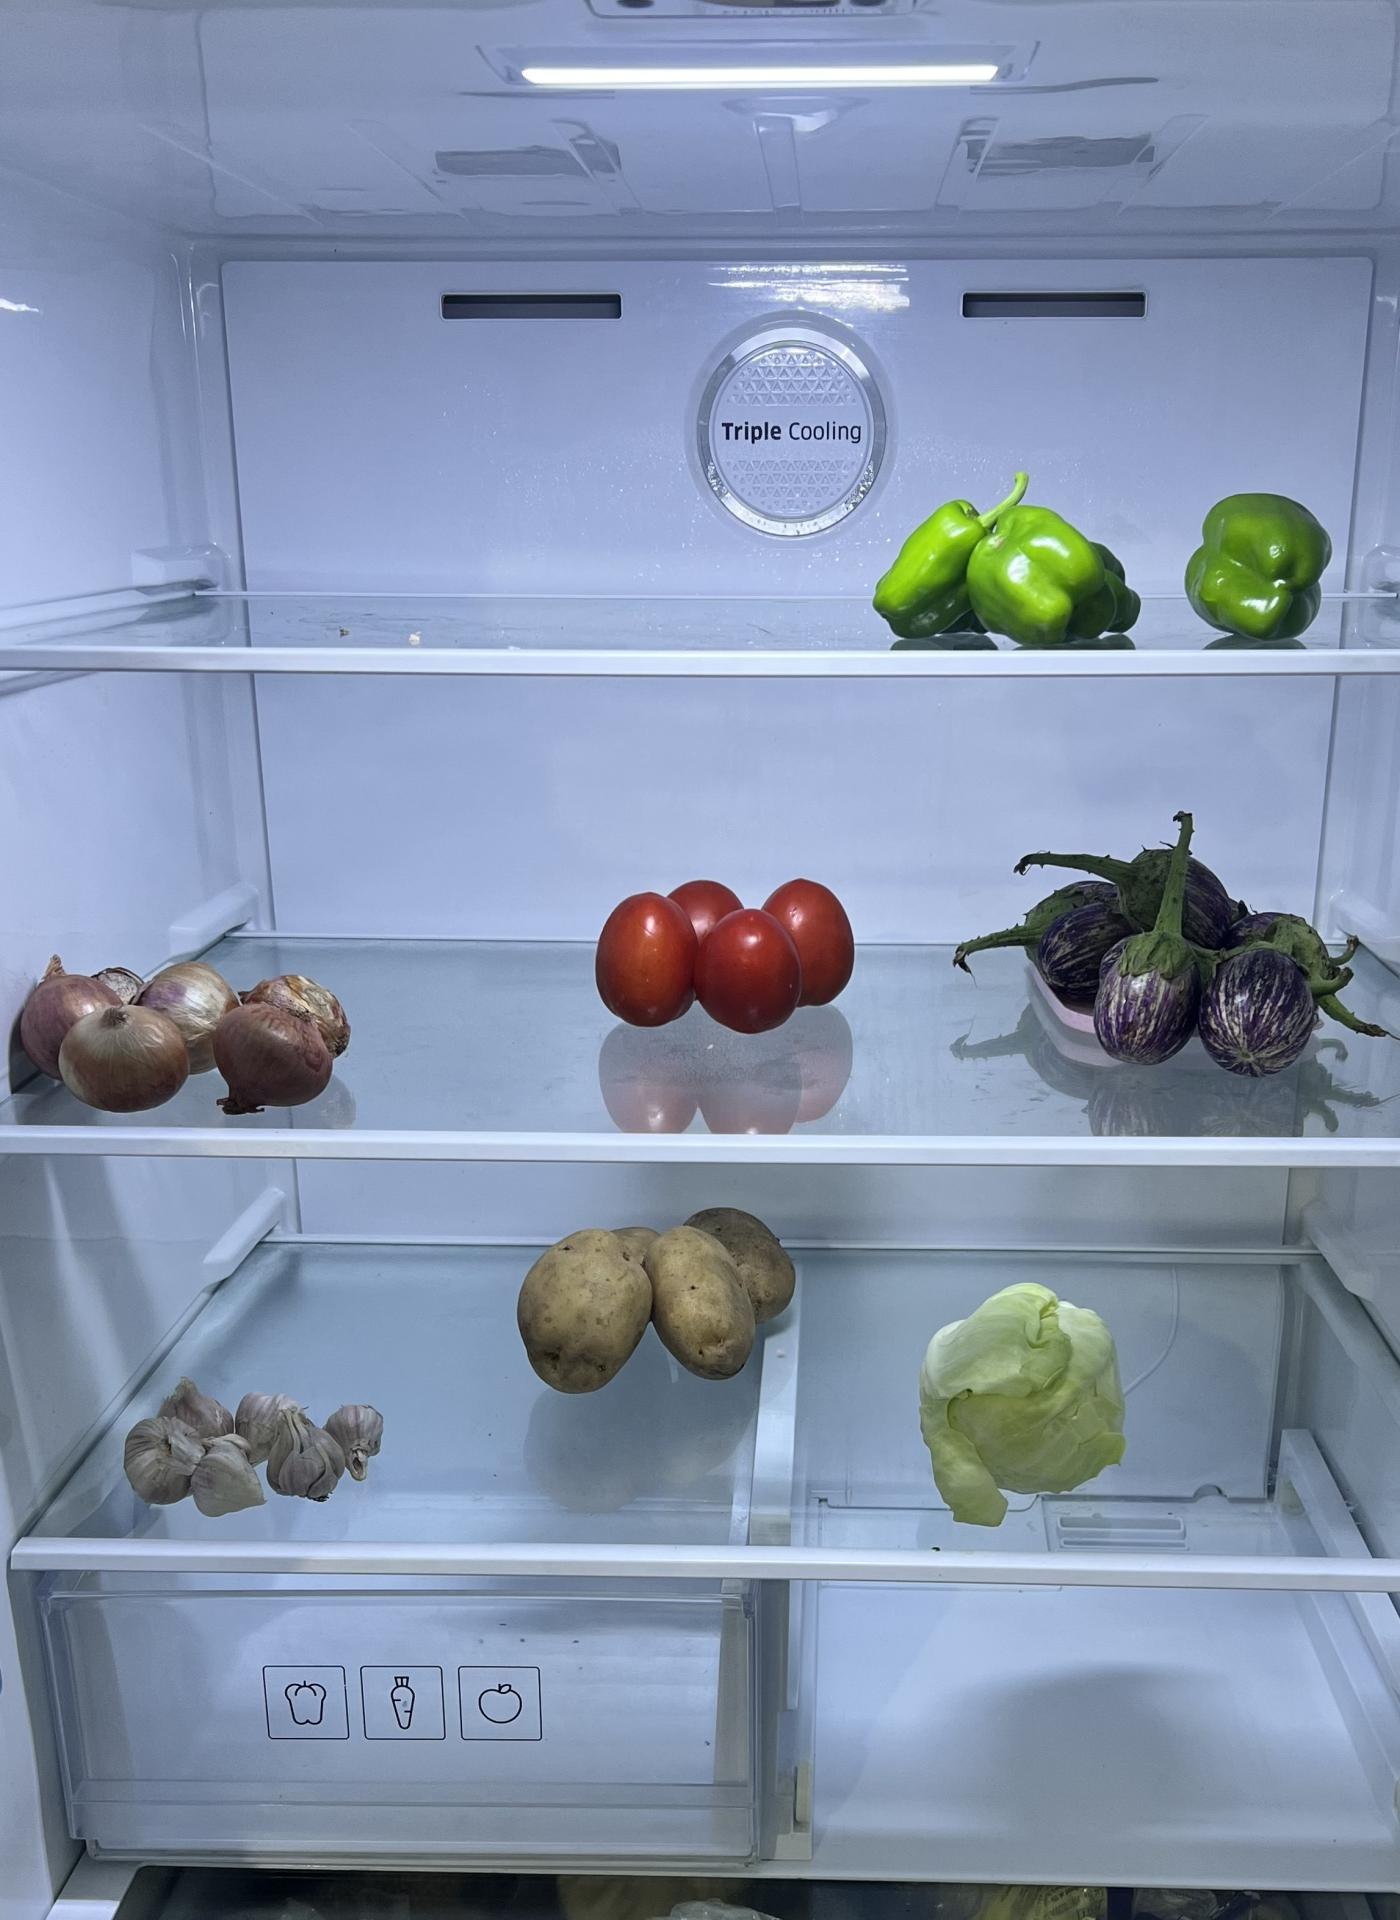brinjal: (1018, 830, 1318, 1075)
cabbage: (921, 1278, 1133, 1519)
capsicum: (868, 483, 1139, 651), (1176, 496, 1331, 647)
garlic: (121, 1371, 385, 1519)
onion: (13, 951, 359, 1114)
potato: (513, 1200, 796, 1391)
tomato: (593, 871, 863, 1036)
